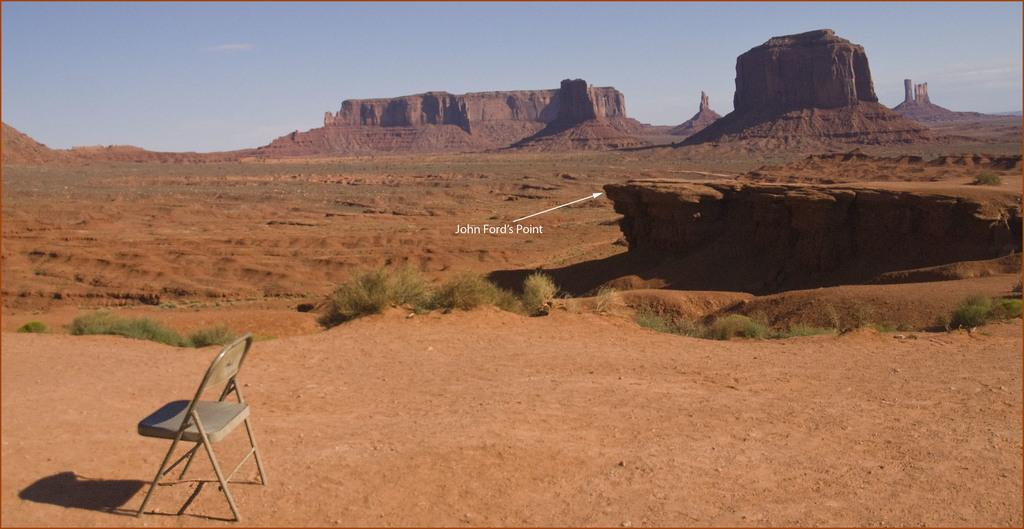Chair: (135, 329, 273, 521)
